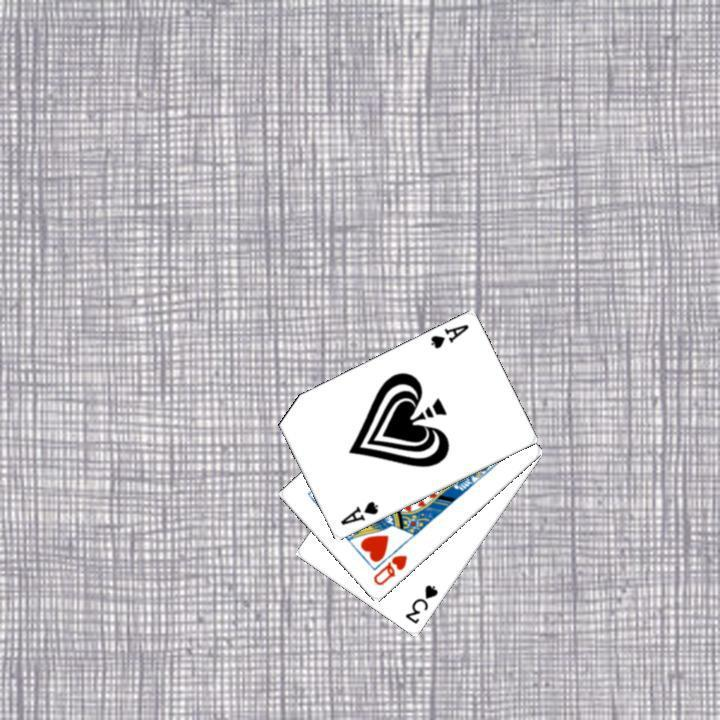3: (401, 580, 440, 626)
A: (426, 320, 471, 351), (336, 497, 380, 527)
Q: (369, 551, 409, 588)
